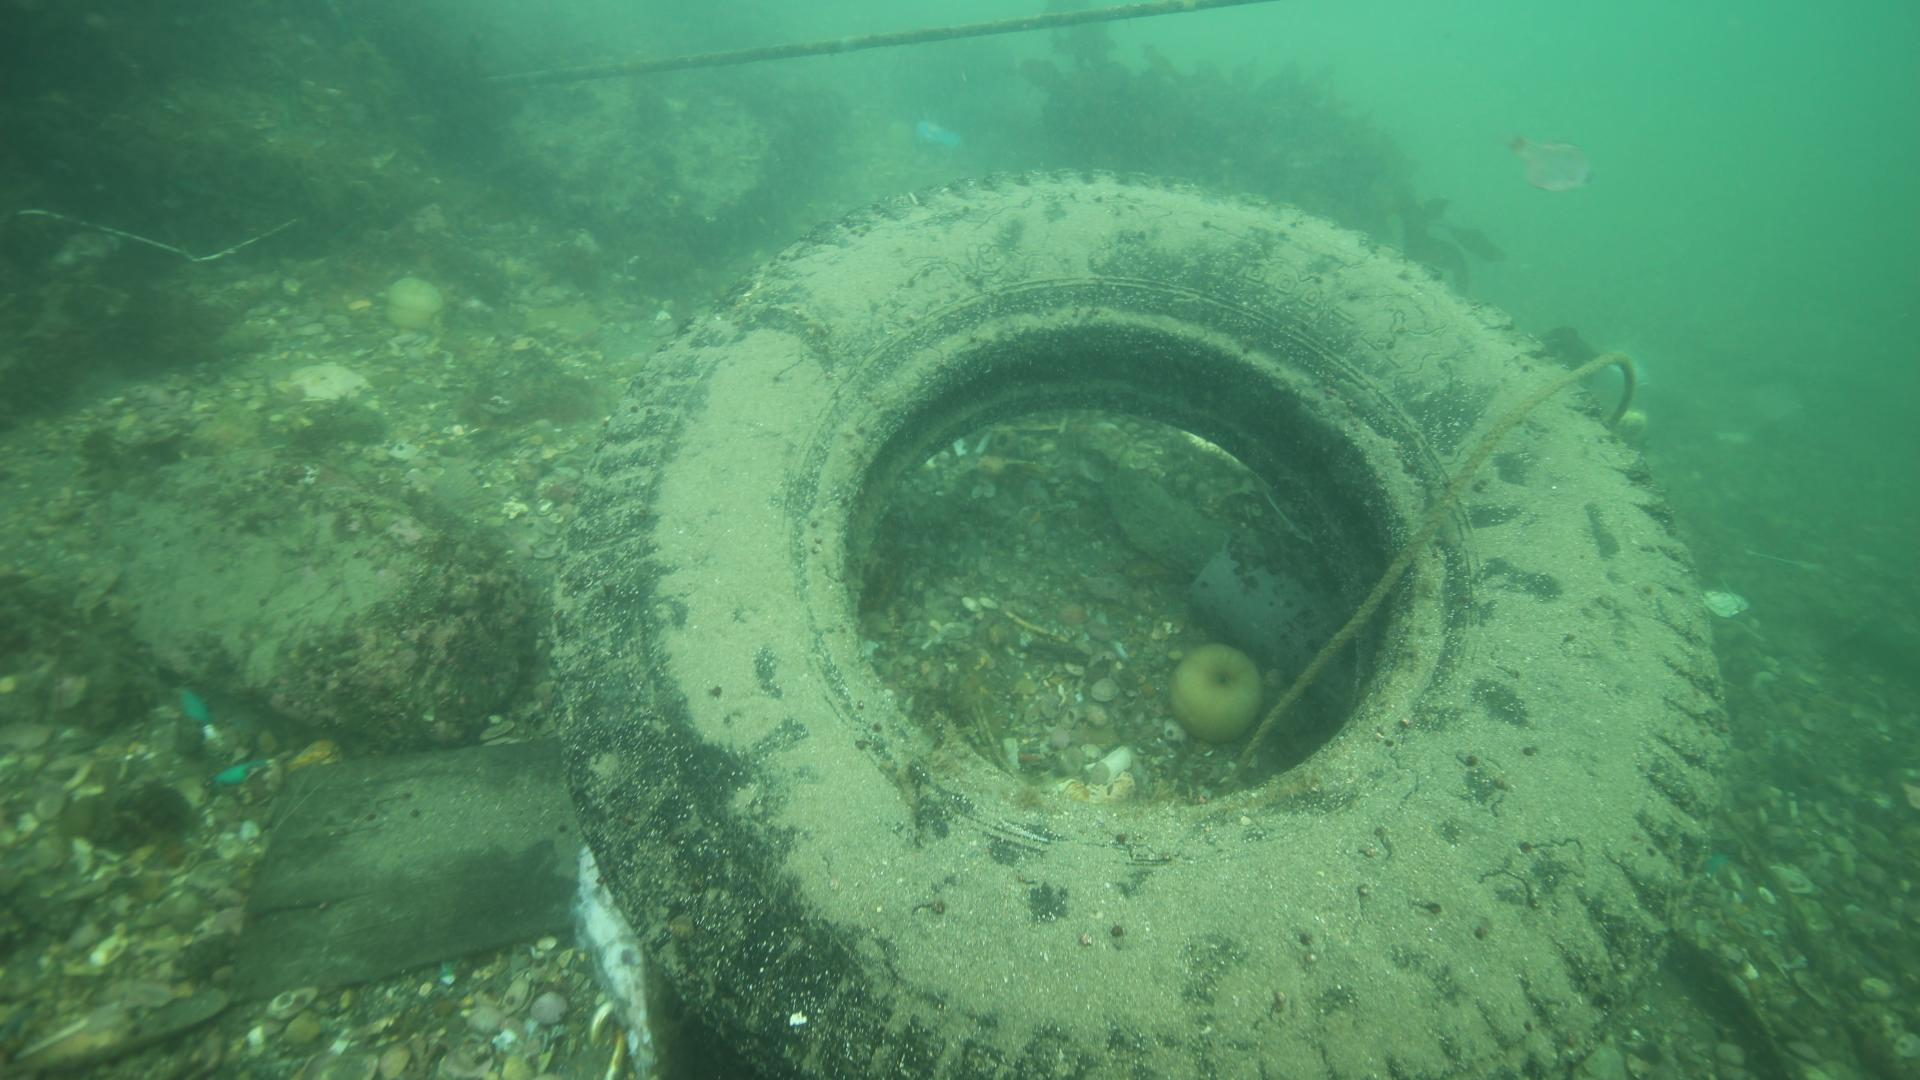rope: (1237, 347, 1638, 758)
tire: (553, 164, 1733, 1080)
